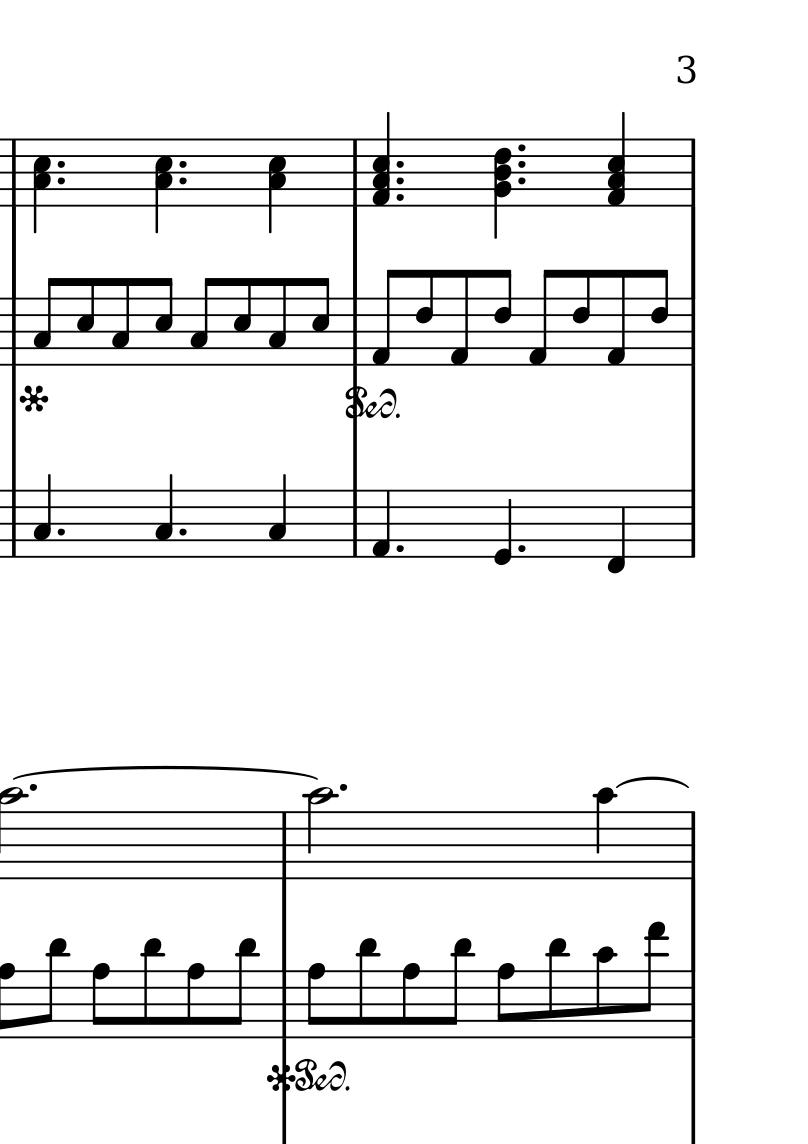2_10: (305, 787, 336, 881)
3: (677, 54, 696, 86)
4_-1: (605, 487, 628, 575)
4_0: (492, 488, 515, 567)
4_1: (371, 489, 393, 559)
4_10: (594, 787, 618, 882)
4_3: (32, 473, 54, 560), (154, 473, 176, 560), (267, 473, 289, 560)
4_3_7: (32, 138, 53, 234), (153, 138, 174, 234), (267, 137, 288, 233)
4_th: (371, 103, 395, 207), (605, 112, 628, 208), (490, 139, 511, 237)
8_1: (526, 267, 558, 369), (369, 268, 401, 369), (603, 268, 628, 371), (448, 266, 471, 369)
8_10: (594, 945, 618, 1041)
8_11: (34, 936, 69, 1043), (444, 937, 476, 1042), (229, 937, 260, 1041), (141, 937, 166, 1042), (356, 937, 381, 1041), (546, 937, 570, 1044)
8_13: (636, 922, 670, 1037)
8_3: (189, 276, 219, 368), (33, 276, 61, 367), (110, 276, 133, 369), (267, 276, 289, 369)
8_5: (75, 275, 97, 368), (153, 275, 175, 368), (232, 276, 254, 368), (310, 275, 332, 367)
8_6: (413, 268, 436, 370), (649, 266, 671, 369), (491, 267, 513, 369), (571, 268, 593, 370)
8_8: (91, 961, 113, 1041), (185, 962, 207, 1042), (306, 961, 328, 1041), (496, 962, 518, 1041), (401, 962, 422, 1042)
Single_barline: (5, 297, 24, 366), (683, 811, 702, 880), (683, 139, 702, 207), (276, 971, 295, 1039), (683, 970, 701, 1039), (347, 298, 365, 366), (347, 140, 365, 207), (683, 298, 701, 365), (346, 491, 364, 557), (276, 812, 294, 878), (6, 490, 23, 558), (6, 140, 23, 206), (683, 491, 700, 557)
Slur: (11, 763, 322, 782), (615, 776, 689, 789)
dot: (394, 174, 408, 188), (177, 173, 190, 188), (177, 157, 190, 171), (337, 781, 350, 795), (515, 141, 528, 155), (55, 175, 68, 188), (393, 191, 406, 204), (394, 157, 406, 171), (55, 158, 68, 170), (55, 526, 68, 538), (394, 542, 406, 555), (515, 542, 527, 555), (516, 175, 528, 187), (177, 526, 189, 538), (28, 782, 39, 795), (516, 160, 528, 170)
